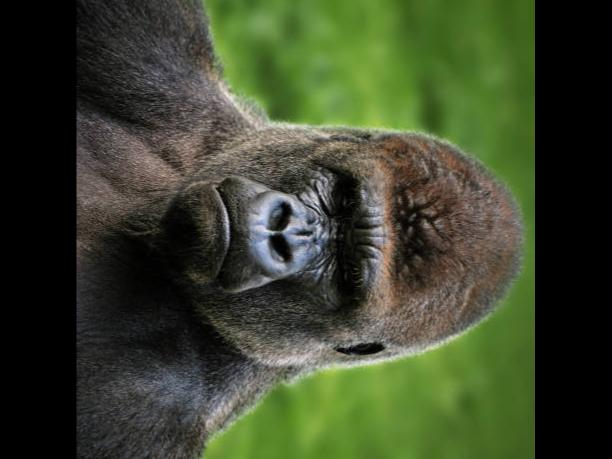gorille_Autres: (78, 0, 534, 459)
